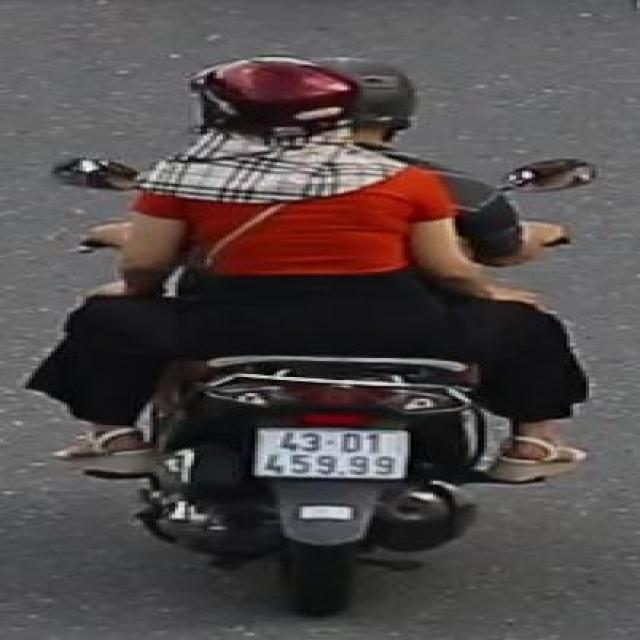LP: (245, 421, 417, 485)
helmet: (186, 47, 358, 158), (307, 39, 435, 145)
